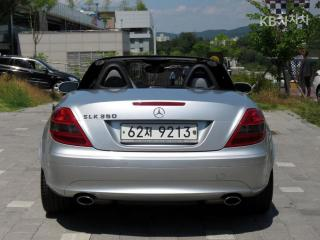1: (175, 125, 184, 138)
2: (136, 124, 144, 139), (167, 126, 175, 138)
3: (182, 126, 191, 137)
6: (126, 125, 136, 138)
9: (157, 125, 167, 138)
plate: (114, 120, 203, 149)
저: (144, 124, 153, 139)
